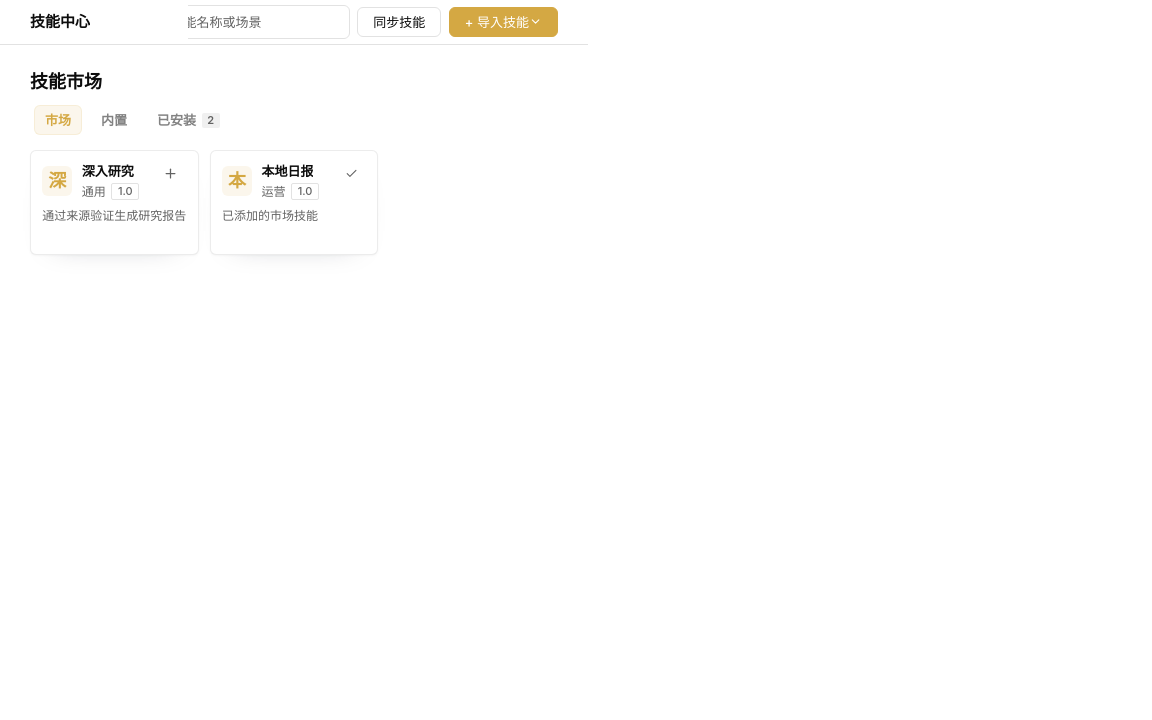
Test: SkillCenterPage › 点击未安装市场技能卡片打开无 header 的详情弹窗
This screenshot has width=1152, height=720.
Expected: the text "深入研究" is shown, x1=82 y1=162 x2=134 y2=181
Click the button "深 深入研究 通用 1.0 通过来源验证生成研究报告".
click(114, 202)  # box x1=30 y1=150 x2=198 y2=255
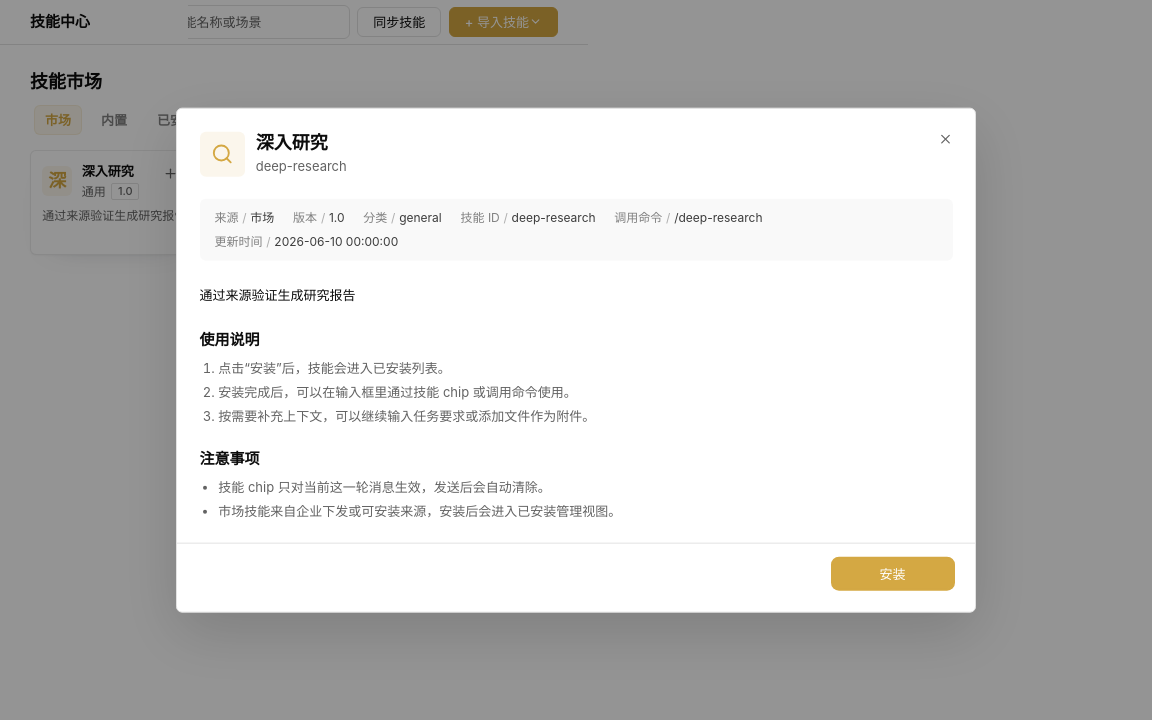
Result: the dialog with test id "skill-detail-dialog" is shown at x1=176 y1=108 x2=976 y2=612
Result: the button with aria-label "安装 深入研究" is shown at x1=832 y1=559 x2=952 y2=589
